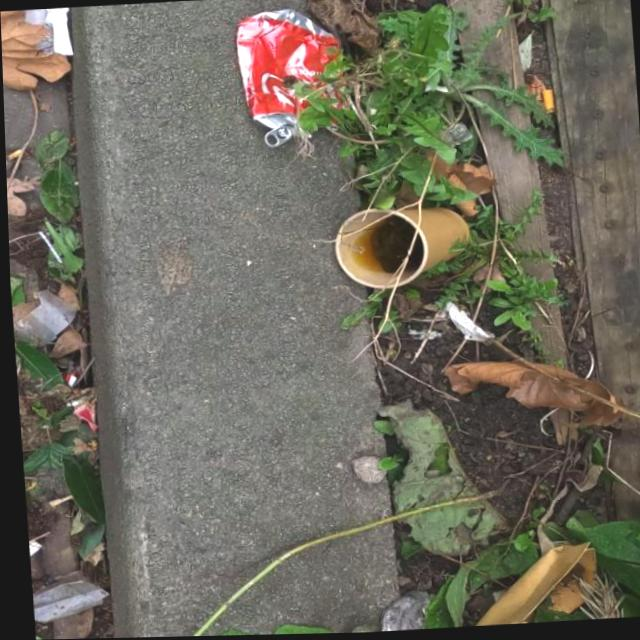Can-Metal: (228, 4, 350, 154)
Cup: (326, 203, 473, 295)
Paper: (8, 7, 76, 61)
Plastic: (57, 371, 95, 434)
